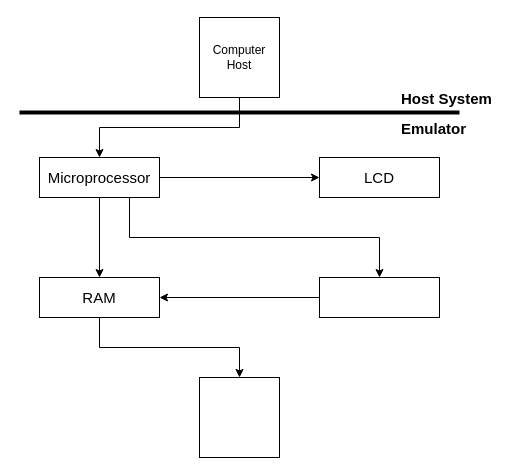
The diagram is 509 pixels wide and 475 high, and some of its shapes have lost their labels. The shapes that lost their labels are listed below. From the top down, each one's box as (x1, y1, x2, y2) in pixels, then its label:
(318, 276, 440, 318): CPU
(198, 376, 280, 458): Cartridge
